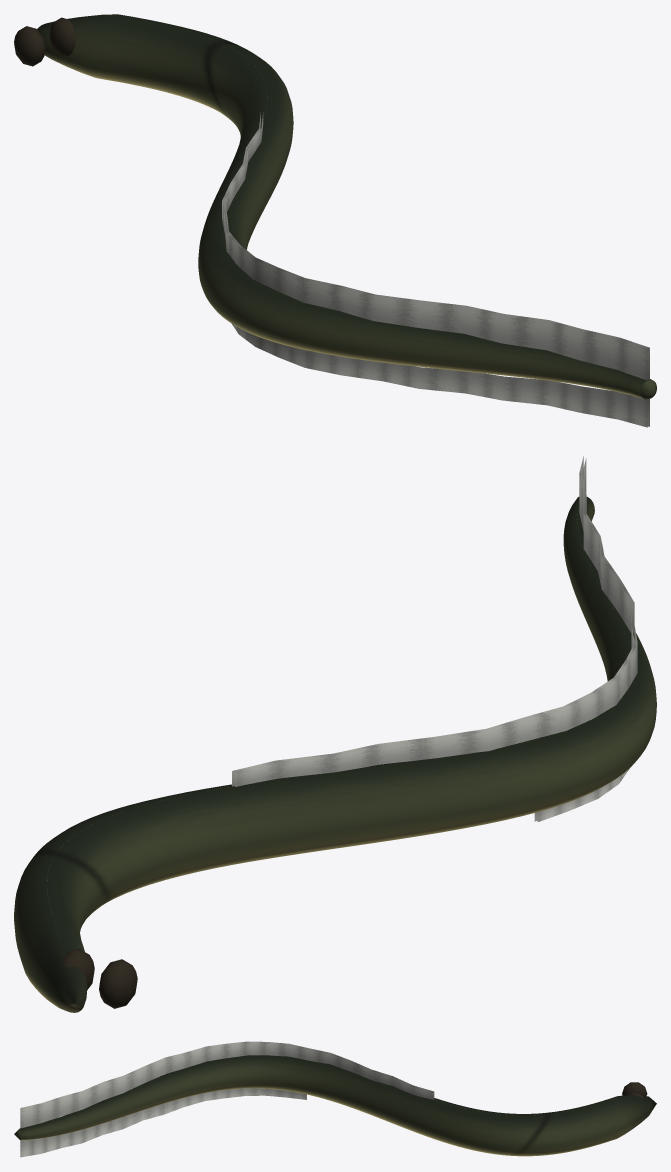
Rendered from HO_Fish_Unagi.fbx.
3 views of the same model, one above another, from view 1: azimuth 30°, elevation 25°; view 2: azimuth 150°, elevation 25°; view 3: azimuth 270°, elevation 25° (orthographic). The views are drawn at different scales.
Parts seen in each view (by area): view 1: HO_Fish_Unagi__Fish_Unagi, HO_Fish_Unagi__Fish_Fin, HO_Fish_Unagi__Fish_Eye; view 2: HO_Fish_Unagi__Fish_Unagi, HO_Fish_Unagi__Fish_Fin, HO_Fish_Unagi__Fish_Eye; view 3: HO_Fish_Unagi__Fish_Unagi, HO_Fish_Unagi__Fish_Fin, HO_Fish_Unagi__Fish_Eye.
Part boxes in pixels (<box>): HO_Fish_Unagi__Fish_Unagi: <box>37,14,656,399</box>; HO_Fish_Unagi__Fish_Fin: <box>222,112,649,427</box>; HO_Fish_Unagi__Fish_Eye: <box>14,17,75,66</box>; HO_Fish_Unagi__Fish_Unagi: <box>14,497,656,1012</box>; HO_Fish_Unagi__Fish_Fin: <box>232,456,637,821</box>; HO_Fish_Unagi__Fish_Eye: <box>62,948,137,1008</box>; HO_Fish_Unagi__Fish_Unagi: <box>14,1055,656,1156</box>; HO_Fish_Unagi__Fish_Fin: <box>20,1041,434,1157</box>; HO_Fish_Unagi__Fish_Eye: <box>622,1082,647,1098</box>.
Bounding box in the file's own units: 0.8838 × 0.282 × 3.03.
